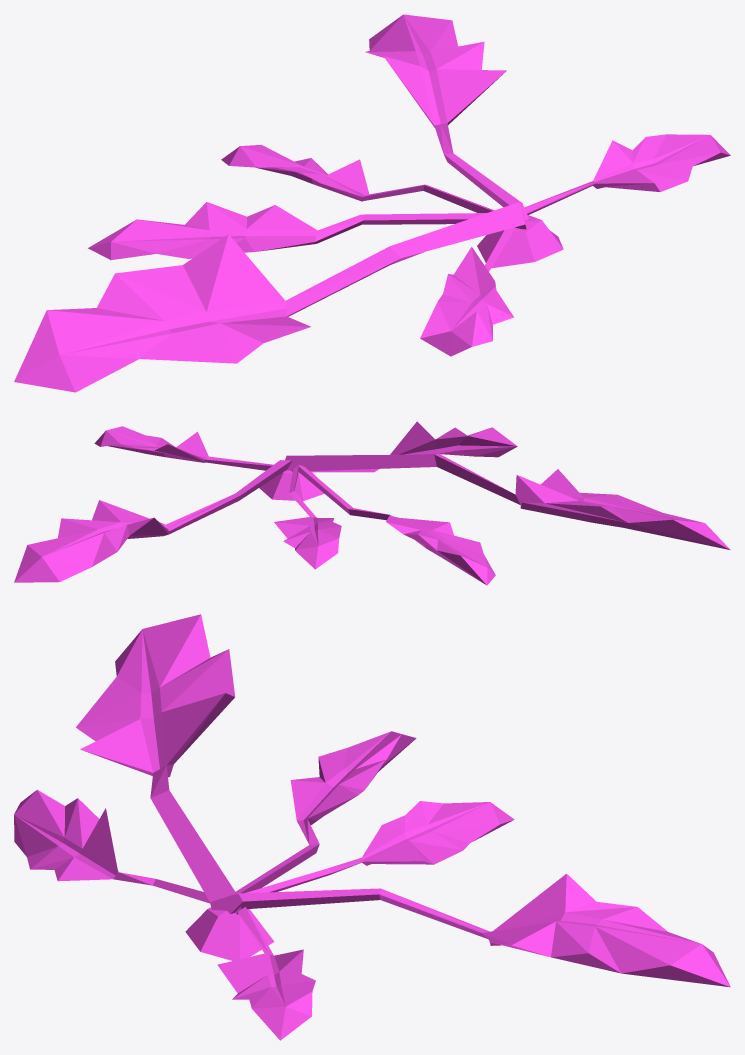
The model's file is SM_Beetroot_Plant_Dead.fbx.
3 renders of one model, top to bottom at view 1: azimuth 30°, elevation 25°; view 2: azimuth 150°, elevation 25°; view 3: azimuth 270°, elevation 25°, orthographic. The views are drawn at different scales.
Visible parts, largest first — view 1: SM_Beetroot_Plant_Dead; view 2: SM_Beetroot_Plant_Dead; view 3: SM_Beetroot_Plant_Dead.
Part boxes in pixels (x1,y1,x2,y2): SM_Beetroot_Plant_Dead: [14, 14, 730, 392]; SM_Beetroot_Plant_Dead: [14, 421, 730, 585]; SM_Beetroot_Plant_Dead: [14, 614, 730, 1040].
Size of the model in its own units: 1.13 by 0.1248 by 0.8505.
